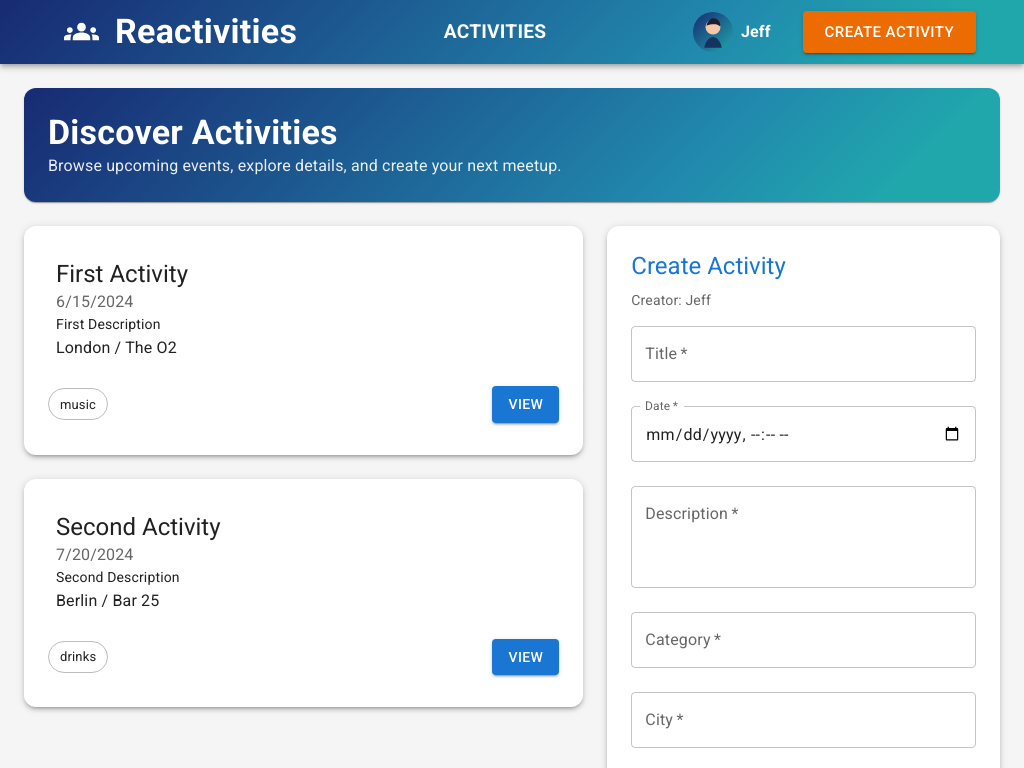
Test: App › selecting an activity shows ActivityDetail
This screenshot has width=1024, height=768.
Expected: the heading "First Activity" is shown, [56,260,188,288]
Click the button "View" in the row of "music" at (526, 404), box [492,386,559,422]
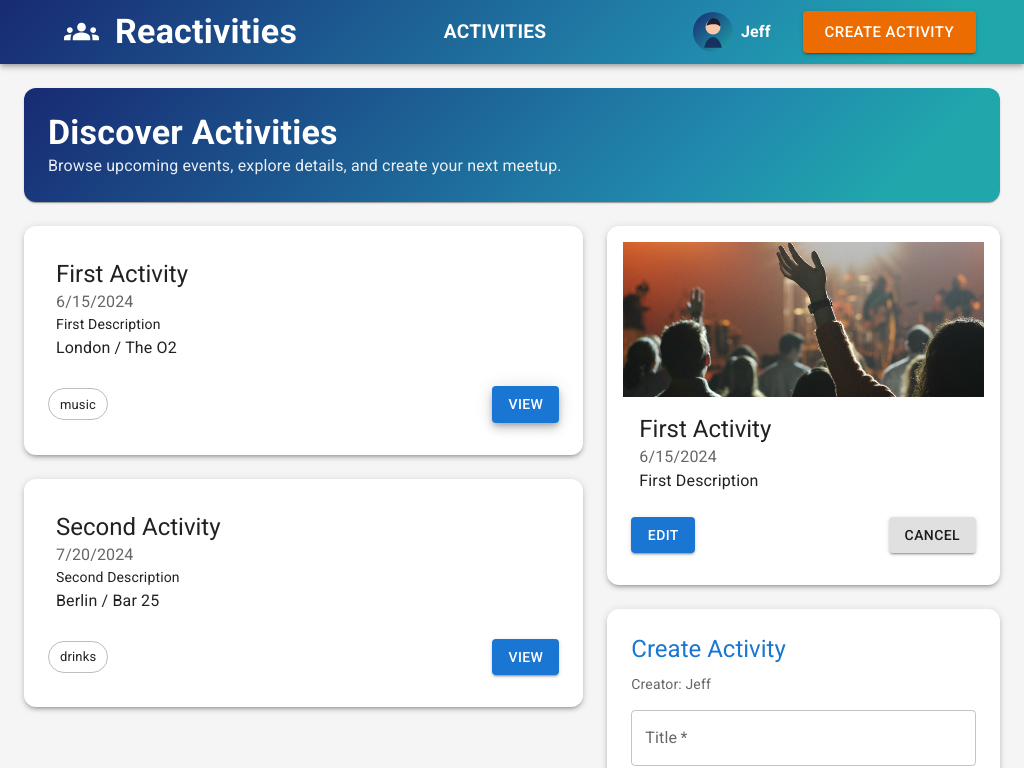
Result: the button "Edit" is shown at [631,517,695,553]
